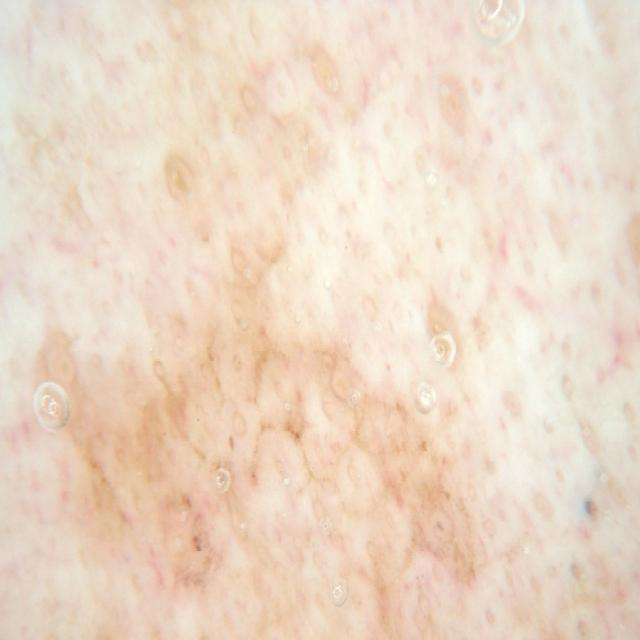Melanoma: (66, 124, 420, 640)
